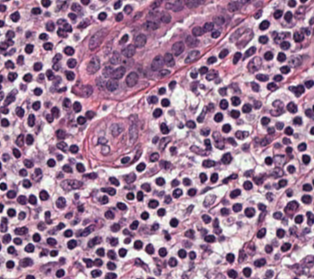nucleus: (89, 29, 105, 49), (61, 180, 81, 190), (151, 55, 164, 70), (87, 57, 99, 73), (230, 28, 244, 41), (185, 50, 199, 63), (248, 57, 261, 71), (111, 66, 125, 79), (172, 41, 184, 55), (129, 122, 137, 142), (213, 132, 223, 148), (134, 34, 146, 47), (105, 78, 117, 91), (126, 72, 137, 86), (122, 45, 134, 57), (163, 53, 174, 66), (274, 32, 288, 42), (185, 36, 197, 47), (243, 47, 255, 58), (159, 137, 170, 149), (111, 124, 122, 135), (204, 195, 215, 206), (131, 150, 141, 162), (101, 187, 115, 195), (110, 52, 120, 63), (82, 85, 92, 96), (82, 225, 93, 235), (271, 168, 283, 177), (197, 108, 205, 121), (221, 153, 231, 163), (270, 108, 283, 115), (103, 66, 112, 76), (206, 71, 216, 80), (5, 94, 14, 104), (125, 173, 135, 182), (254, 175, 264, 184), (39, 190, 48, 200), (56, 197, 65, 207), (203, 159, 214, 167), (235, 131, 247, 138), (14, 227, 26, 234), (57, 28, 66, 37), (64, 46, 73, 55), (52, 54, 61, 63), (67, 58, 76, 67), (65, 71, 74, 80), (231, 96, 240, 105), (56, 129, 65, 138), (17, 195, 26, 204), (272, 100, 282, 108), (51, 107, 59, 117), (160, 123, 168, 133), (25, 134, 33, 144), (230, 189, 240, 197), (148, 199, 158, 207), (233, 52, 240, 63), (256, 74, 267, 81), (16, 134, 23, 145), (258, 210, 265, 221), (120, 34, 128, 43), (219, 49, 228, 57), (277, 52, 285, 61), (5, 60, 14, 68), (251, 82, 259, 91), (153, 108, 161, 117), (28, 114, 34, 126), (186, 120, 195, 128), (227, 137, 236, 145), (57, 142, 66, 150), (275, 156, 283, 165), (136, 163, 145, 171), (109, 177, 118, 185), (277, 179, 286, 187), (28, 195, 36, 204), (245, 208, 254, 216), (45, 211, 51, 223), (170, 218, 178, 227), (257, 228, 265, 237), (16, 107, 23, 117), (101, 144, 108, 154), (259, 35, 267, 43), (264, 52, 272, 60), (33, 62, 41, 70), (23, 73, 31, 81), (161, 98, 169, 106), (32, 101, 40, 109), (242, 104, 250, 112), (214, 113, 222, 121), (77, 116, 85, 124), (222, 124, 230, 132), (150, 153, 158, 161), (24, 159, 32, 167), (76, 163, 84, 171), (156, 177, 164, 185), (243, 181, 251, 189), (142, 183, 150, 191), (173, 189, 181, 197), (233, 203, 241, 211), (7, 208, 15, 216), (105, 210, 113, 218), (202, 214, 210, 222), (130, 221, 138, 229), (111, 223, 119, 231), (185, 229, 193, 237), (276, 229, 284, 237), (43, 42, 52, 49), (25, 44, 32, 53), (207, 56, 216, 63), (160, 69, 169, 76), (46, 70, 53, 79), (267, 83, 276, 90), (148, 96, 157, 103), (63, 98, 70, 107), (220, 99, 227, 108), (73, 102, 80, 111), (69, 145, 78, 152), (13, 148, 20, 157), (161, 161, 170, 168), (117, 203, 126, 210), (204, 139, 210, 149), (211, 30, 219, 37), (6, 31, 14, 38), (199, 67, 207, 74), (8, 73, 16, 80), (219, 87, 226, 95), (231, 110, 239, 117), (86, 111, 94, 118), (46, 114, 53, 122), (261, 117, 269, 124), (1, 118, 8, 126), (260, 138, 268, 145), (63, 165, 71, 172), (23, 179, 30, 187), (188, 188, 196, 195), (7, 191, 15, 198), (100, 196, 108, 203), (157, 208, 165, 215), (220, 208, 228, 215), (141, 211, 148, 219), (273, 212, 281, 219), (85, 173, 96, 178), (17, 55, 23, 64), (200, 173, 206, 182), (211, 173, 217, 182), (190, 71, 197, 78), (158, 87, 165, 94), (34, 88, 41, 95), (276, 122, 283, 129), (99, 137, 106, 144), (2, 154, 9, 161), (265, 157, 272, 164), (47, 159, 54, 166), (183, 178, 190, 185), (171, 179, 178, 186), (126, 192, 133, 199), (258, 203, 265, 210), (18, 212, 25, 219), (37, 222, 44, 229), (39, 33, 47, 39), (5, 39, 13, 45), (201, 129, 209, 135), (121, 157, 129, 163), (0, 182, 6, 190), (64, 230, 72, 236), (164, 231, 170, 239), (273, 75, 282, 80), (97, 78, 102, 87), (137, 191, 142, 200), (1, 222, 6, 231), (53, 63, 59, 70), (169, 81, 175, 88), (254, 101, 260, 108), (1, 107, 8, 113), (19, 169, 26, 175), (266, 193, 272, 200), (57, 223, 64, 229), (152, 223, 158, 230), (213, 219, 218, 227), (268, 127, 274, 133), (38, 74, 43, 81), (55, 77, 60, 84), (245, 170, 252, 175), (165, 196, 170, 203), (152, 136, 157, 142), (170, 147, 175, 153), (35, 168, 40, 174), (78, 205, 83, 211), (215, 227, 220, 233), (123, 229, 129, 234), (229, 174, 236, 178), (188, 205, 192, 212), (223, 178, 229, 182), (65, 213, 71, 217), (243, 144, 247, 149), (57, 155, 62, 159), (2, 218, 6, 222), (0, 92, 2, 99), (0, 204, 2, 211), (26, 32, 29, 36), (0, 75, 2, 80)
